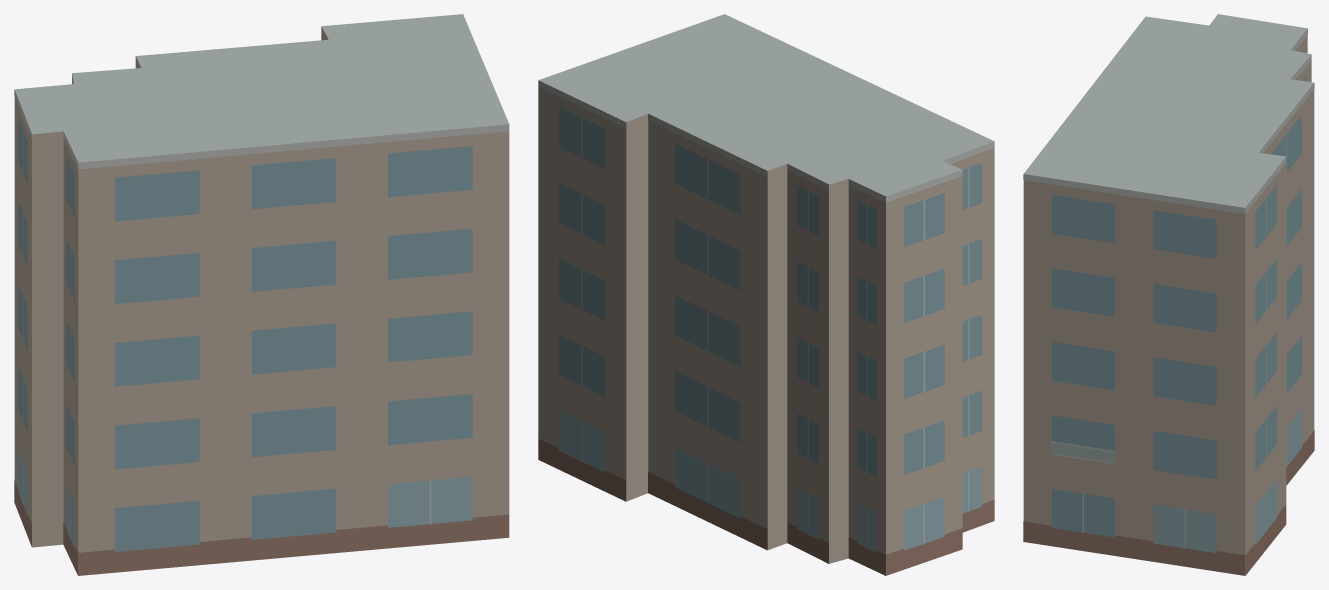
Rendered from survey-upis-32975247.glb.
The picture shows the model from 3 angles, left to right: view 1: azimuth 30°, elevation 25°; view 2: azimuth 150°, elevation 25°; view 3: azimuth 270°, elevation 25°; orthographic projection. The views are drawn at different scales.
Parts seen in each view (by area): view 1: survey-upis-32975247.tmp; view 2: survey-upis-32975247.tmp; view 3: survey-upis-32975247.tmp.
Part boxes in pixels (<box>): survey-upis-32975247.tmp: <box>14,14,509,575</box>; survey-upis-32975247.tmp: <box>538,14,994,575</box>; survey-upis-32975247.tmp: <box>1023,14,1314,575</box>.
Size of the model in its own units: 16.52 by 14.6 by 10.48.
